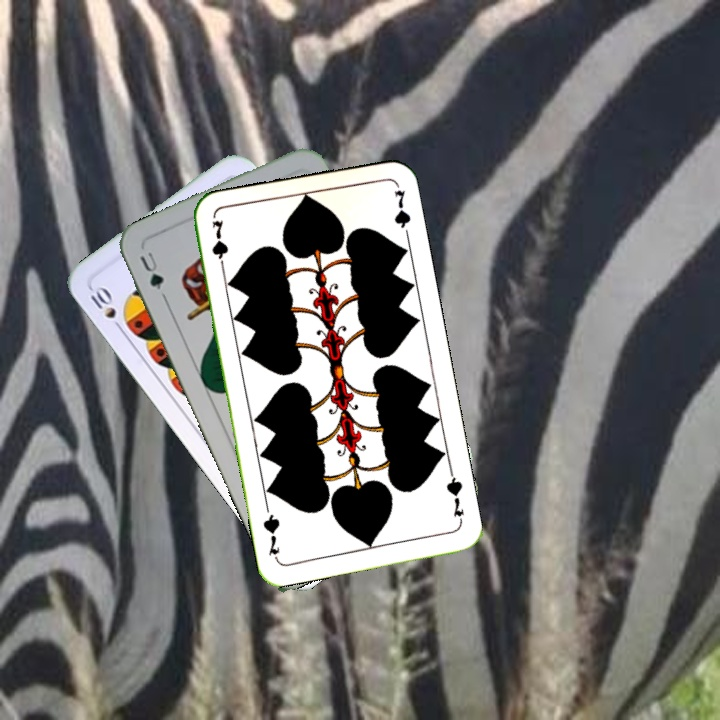G7: (442, 467, 467, 526), (207, 216, 231, 275)
GU: (135, 247, 169, 301)
S10: (84, 281, 127, 335)
